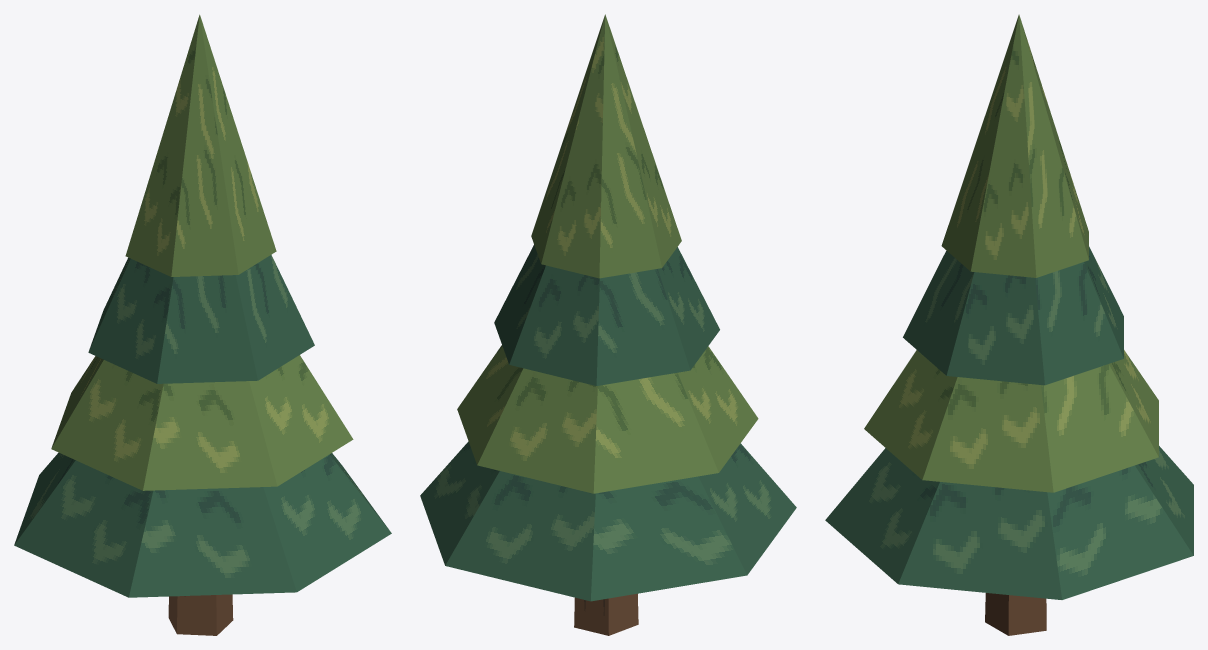
The model's file is arvore-pinheiro-v02.gltf.
3 views of the same model, side by side, from view 1: azimuth 30°, elevation 25°; view 2: azimuth 150°, elevation 25°; view 3: azimuth 270°, elevation 25° (orthographic).
Parts seen in each view (by area): view 1: tronco-galhos-copa; view 2: tronco-galhos-copa; view 3: tronco-galhos-copa.
Boxes of the visible parts, x1=… form: tronco-galhos-copa: x1=14, y1=14, x2=391, y2=635; tronco-galhos-copa: x1=420, y1=14, x2=796, y2=635; tronco-galhos-copa: x1=825, y1=14, x2=1193, y2=635.
Size of the model in its own units: 2.44 by 4.32 by 2.38.
1 material, 1 textured.
